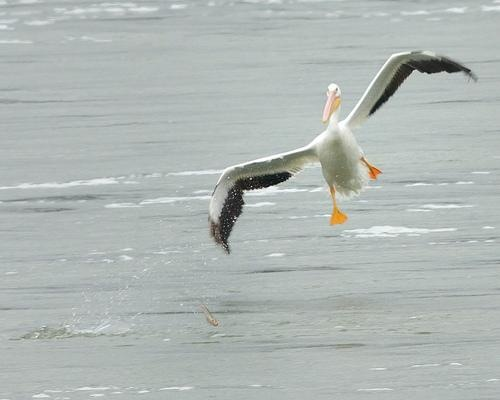bird: (203, 46, 476, 249)
